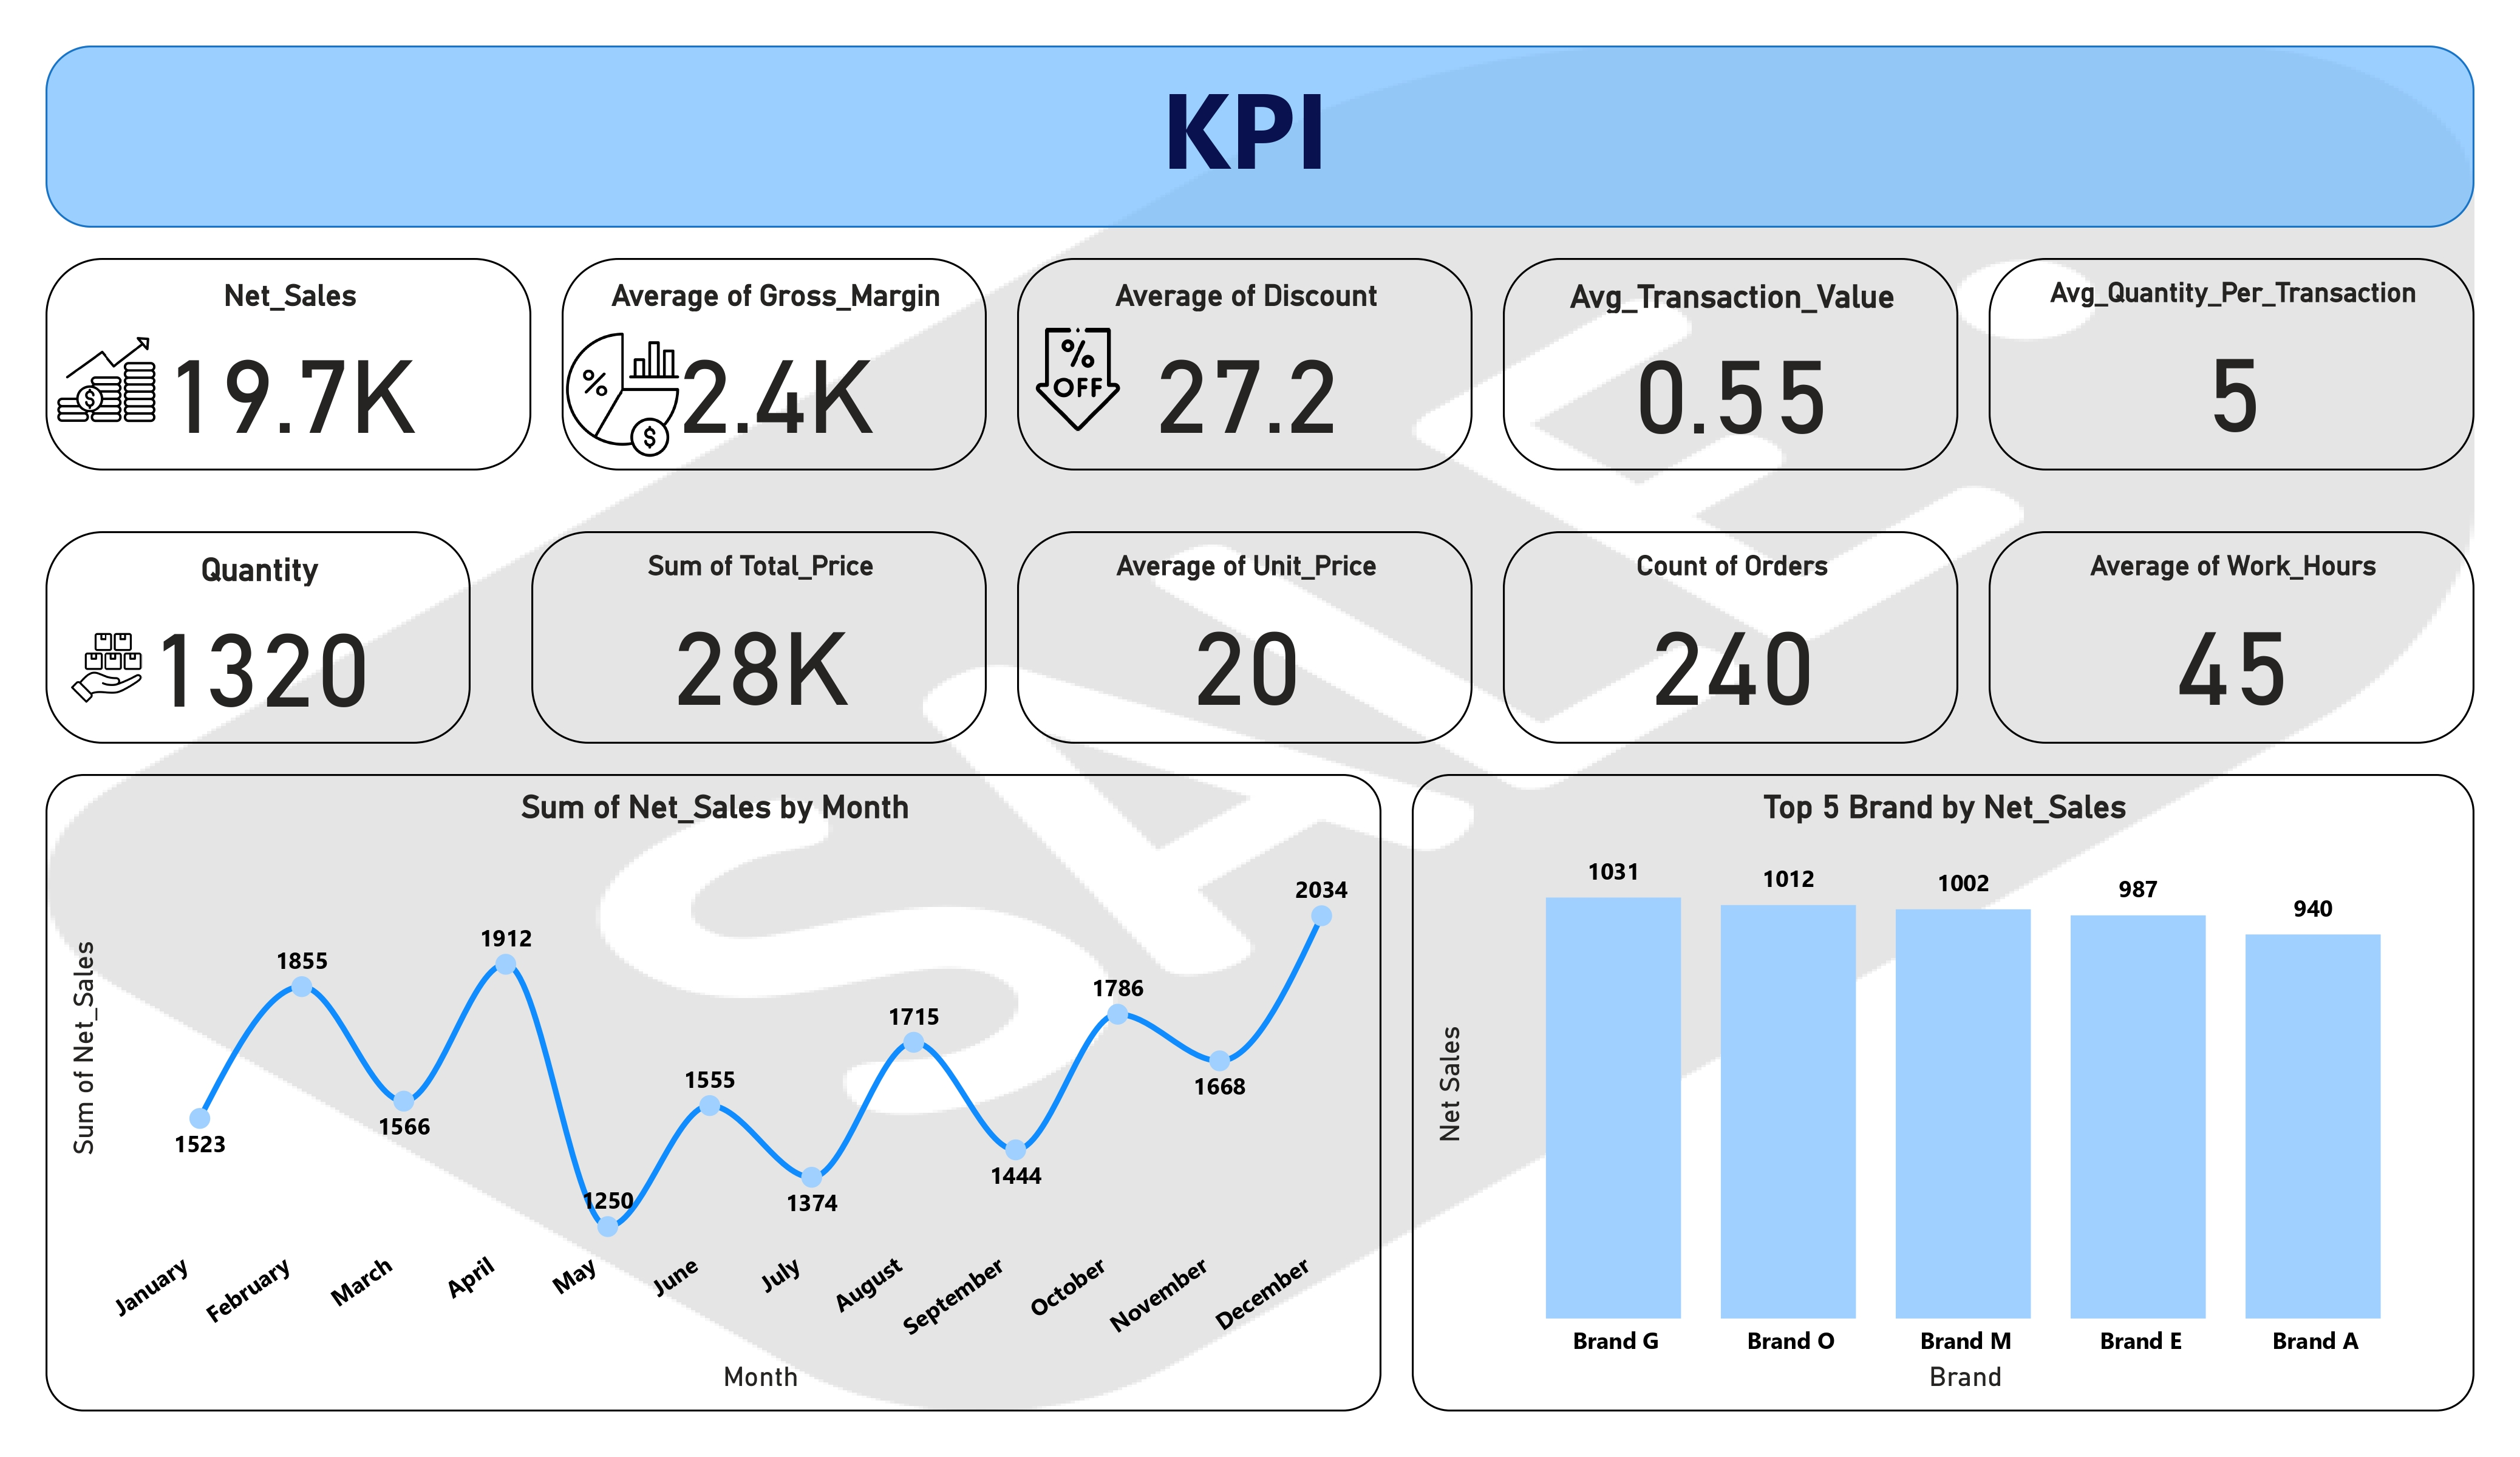

The page's visual inventory and layout, read from the dashboard file:
{"tool":"powerbi","page":{"name":"Page 2","canvas":[1280,720],"ordinal":1},"visuals":[{"type":"card","title":"Avg_Quantity_Per_Transaction","fields":{"Values":["Avg(Sales_Fact.Avg_Quantity_Per_Transaction)"]},"box":[1024,112,256,112],"z":0},{"type":"card","title":"Avg_Transaction_Value","fields":{"Values":["Avg(Sales_Fact.Avg_Transaction_Value)"]},"box":[768,112,240,112],"z":1000},{"type":"card","title":"Average of Discount","fields":{"Values":["Avg(Sales_Fact.Discount)"]},"box":[512,112,240,112],"z":2000},{"type":"card","title":"Average of Gross_Margin","fields":{"Values":["Sum(Sales_Fact.Gross_Margin)"]},"box":[272,112,224,112],"z":3000},{"type":"card","title":"Net_Sales","fields":{"Values":["Sum(Sales_Fact.Net_Sales)"]},"box":[0,112,256,112],"z":4000},{"type":"clusteredColumnChart","title":"Top 5 Brand by Net_Sales ","fields":{"Category":["Dim_Products.Brand"],"Y":["Sum(Sales_Fact.Net_Sales)"]},"box":[720,384,560,336],"z":5000},{"type":"lineChart","fields":{"Category":["Dim_Products.Expiry_Date.Variation.Date Hierarchy.Month"],"Y":["Sum(Sales_Fact.Net_Sales)"]},"box":[0,384,704,336],"z":6000},{"type":"card","title":"Quantity","fields":{"Values":["Sum(Sales_Fact.Quantity)"]},"box":[0,256,224,112],"z":7000},{"type":"card","title":"Sum of Total_Price","fields":{"Values":["Sum(Sales_Fact.Total_Price)"]},"box":[256,256,240,112],"z":8000},{"type":"card","title":"Average of Unit_Price","fields":{"Values":["Avg(Sales_Fact.Unit_Price)"]},"box":[512,256,240,112],"z":9000},{"type":"card","title":"Count of Orders","fields":{"Values":["CountNonNull(Sales_Fact.Sales_ID)"]},"box":[768,256,240,112],"z":10000},{"type":"card","title":"Average of Work_Hours","fields":{"Values":["Avg(Dim_Employees.Work_Hours)"]},"box":[1024,256,256,112],"z":11000},{"type":"shape","box":[0,0,1280,96],"z":12000},{"type":"textbox","box":[304,0,656,96],"z":13000},{"type":"image","box":[512,144,64,64],"z":14000},{"type":"image","box":[256,144,96,80],"z":15000},{"type":"image","box":[0,144,64,64],"z":16000},{"type":"image","box":[0,304,64,48],"z":17000}]}

Visuals, with their boxes in screenshot pixels (x1, y1, x2, y2):
"Avg_Quantity_Per_Transaction" card: <bbox>1989, 258, 2474, 470</bbox>
"Avg_Transaction_Value" card: <bbox>1503, 258, 1958, 470</bbox>
"Average of Discount" card: <bbox>1017, 258, 1473, 470</bbox>
"Average of Gross_Margin" card: <bbox>562, 258, 987, 470</bbox>
"Net_Sales" card: <bbox>46, 258, 531, 470</bbox>
"Top 5 Brand by Net_Sales " clusteredColumnChart: <bbox>1412, 774, 2474, 1411</bbox>
lineChart - Dim_Products.Expiry_Date.Variation.Date Hierarchy.Month x Sum(Sales_Fact.Net_Sales): <bbox>46, 774, 1381, 1411</bbox>
"Quantity" card: <bbox>46, 531, 471, 744</bbox>
"Sum of Total_Price" card: <bbox>531, 531, 987, 744</bbox>
"Average of Unit_Price" card: <bbox>1017, 531, 1473, 744</bbox>
"Count of Orders" card: <bbox>1503, 531, 1958, 744</bbox>
"Average of Work_Hours" card: <bbox>1989, 531, 2474, 744</bbox>
shape: <bbox>46, 46, 2474, 228</bbox>
textbox: <bbox>622, 46, 1867, 228</bbox>
image: <bbox>1017, 319, 1139, 440</bbox>
image: <bbox>531, 319, 713, 470</bbox>
image: <bbox>46, 319, 167, 440</bbox>
image: <bbox>46, 622, 167, 713</bbox>
